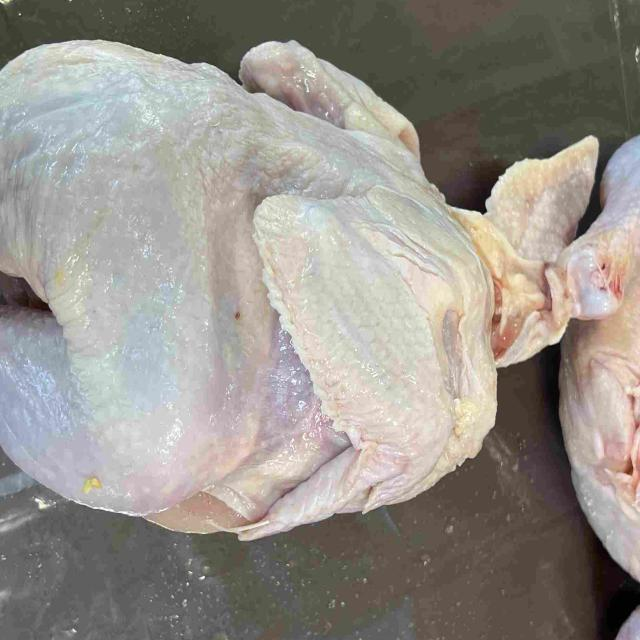back: (0, 39, 433, 274)
leg: (0, 165, 264, 510), (550, 131, 640, 321)
wing: (241, 189, 449, 536)
